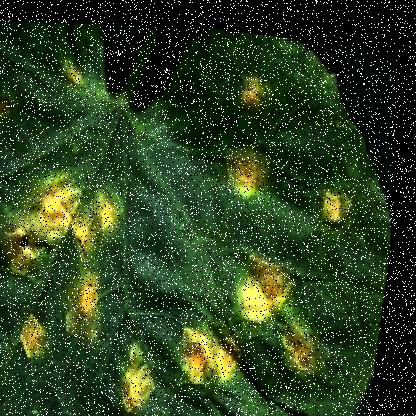Anthracnose: (0, 93, 384, 415)
